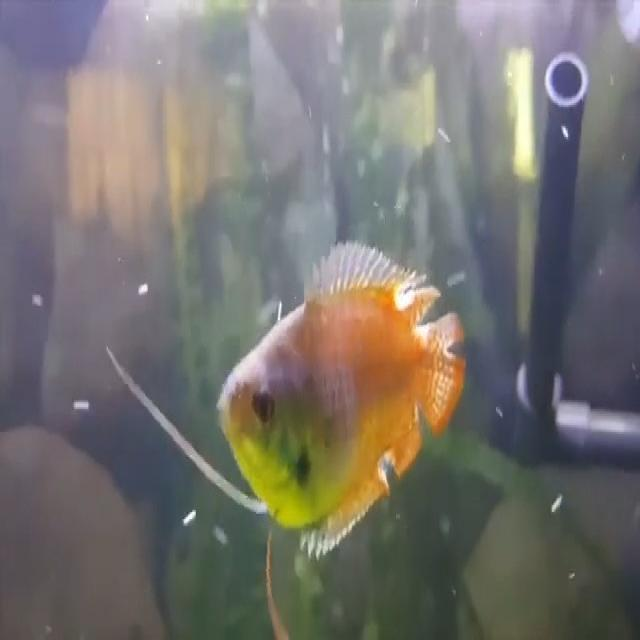fish: (214, 233, 468, 560)
